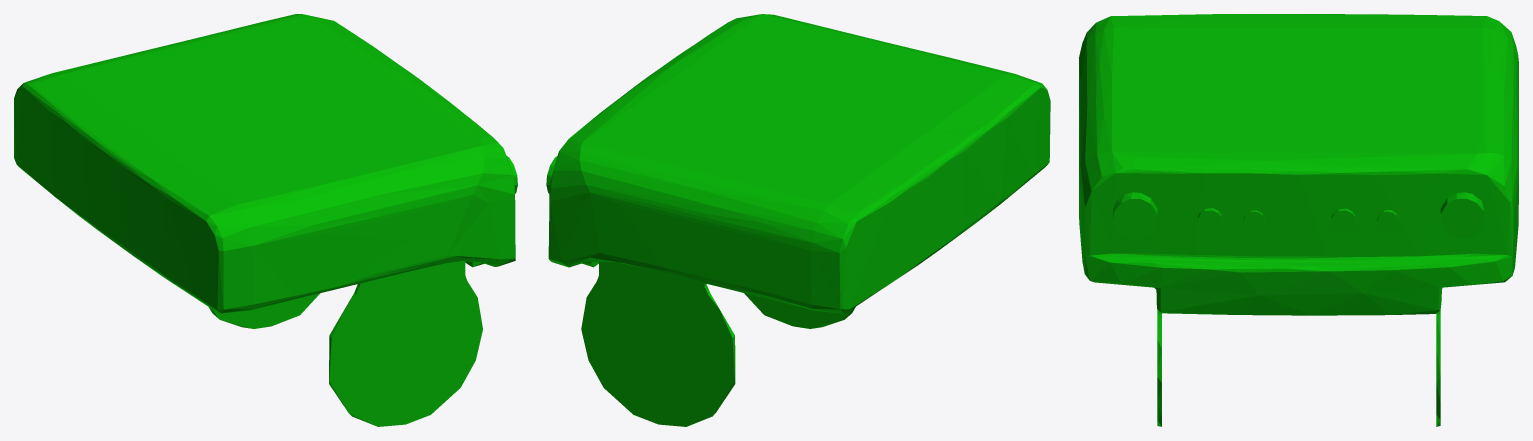
The model's file is head_tilt.gltf.
The picture shows the model from 3 angles, left to right: view 1: azimuth 30°, elevation 25°; view 2: azimuth 150°, elevation 25°; view 3: azimuth 270°, elevation 25°; orthographic projection. The views are drawn at different scales.
Visible parts, largest first — view 1: Node; view 2: Node; view 3: Node.
Part boxes in pixels (x1,y1,x2,y2): Node: [14, 14, 517, 426]; Node: [546, 14, 1050, 426]; Node: [1079, 14, 1518, 426].
Bounding box in the file's own units: 0.2614 × 0.217 × 0.2957.
